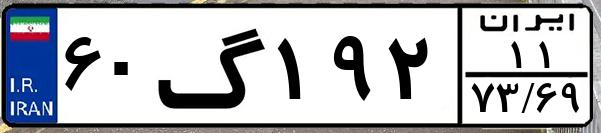0: (110, 28, 156, 98)
1: (270, 28, 330, 110), (537, 27, 568, 80), (508, 27, 537, 80)
2: (385, 28, 445, 110)
3: (495, 70, 520, 125)
6: (57, 26, 110, 100), (535, 70, 560, 125)
7: (470, 70, 495, 125)
9: (330, 28, 385, 110), (560, 70, 590, 125)
گ: (156, 12, 270, 120)
